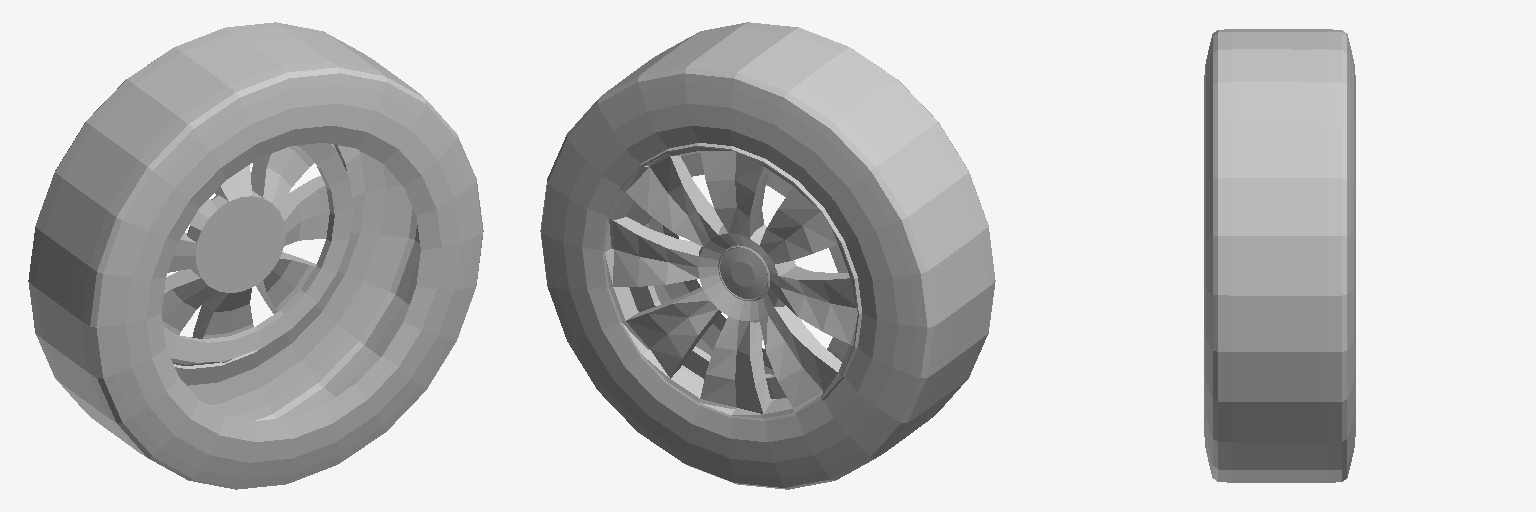
The model's file is tire&rim.obj.
3 renders of one model, left to right at view 1: azimuth 30°, elevation 25°; view 2: azimuth 150°, elevation 25°; view 3: azimuth 270°, elevation 25°, orthographic.
Visible parts, largest first — view 1: polySurface3 polySurface1, polySurface1 polySurface4; view 2: polySurface3 polySurface1, polySurface1 polySurface4; view 3: polySurface3 polySurface1.
Part boxes in pixels (bbox=[...]): polySurface3 polySurface1: bbox=[28, 22, 483, 489]; polySurface1 polySurface4: bbox=[162, 143, 353, 368]; polySurface3 polySurface1: bbox=[540, 22, 995, 489]; polySurface1 polySurface4: bbox=[602, 143, 861, 420]; polySurface3 polySurface1: bbox=[1204, 29, 1355, 482].
Bounding box in the file's own units: 4.73 × 4.74 × 1.59.